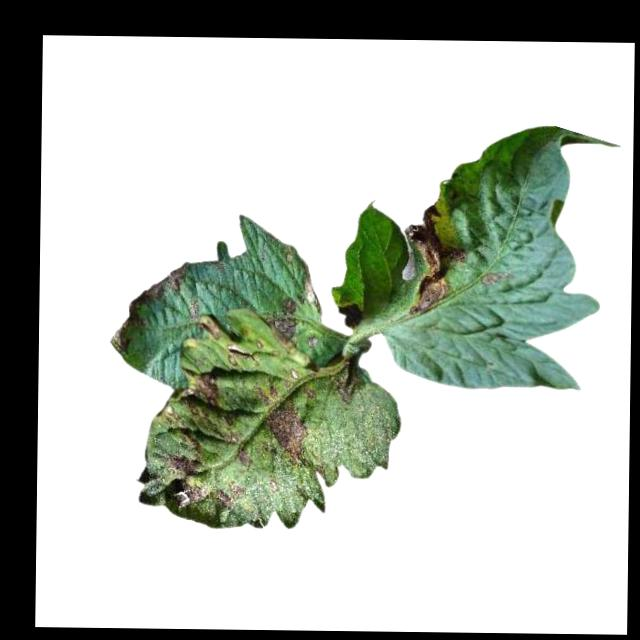Early_blight: (404, 202, 469, 320), (253, 384, 311, 467), (162, 433, 211, 511), (179, 370, 229, 423), (146, 262, 189, 303), (266, 298, 298, 347), (334, 360, 363, 403), (216, 480, 241, 511), (479, 272, 514, 285)
